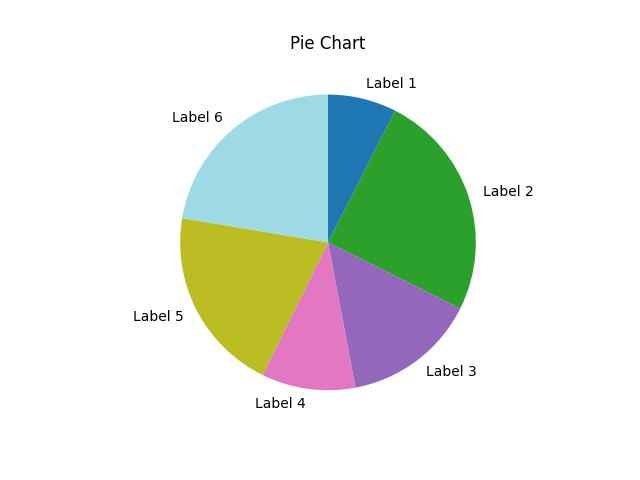sector: (330, 111, 475, 307), (178, 219, 330, 376), (183, 93, 329, 243), (329, 243, 461, 386), (262, 244, 356, 390), (328, 92, 396, 243)
